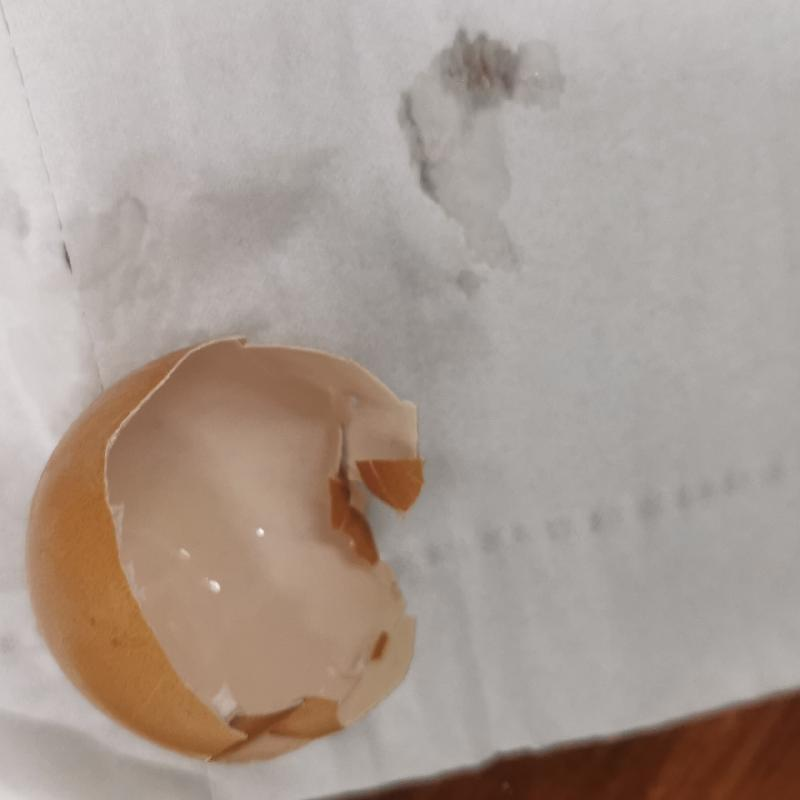eggshell: (18, 337, 419, 759)
